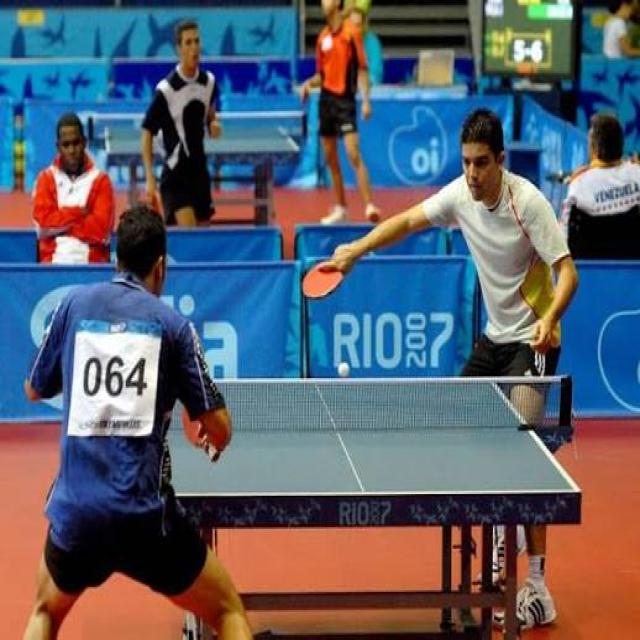TT Net: (116, 372, 573, 436), (87, 109, 310, 147)
TT Racket: (292, 249, 354, 309)
TT Table: (140, 374, 584, 500), (106, 121, 300, 154)
